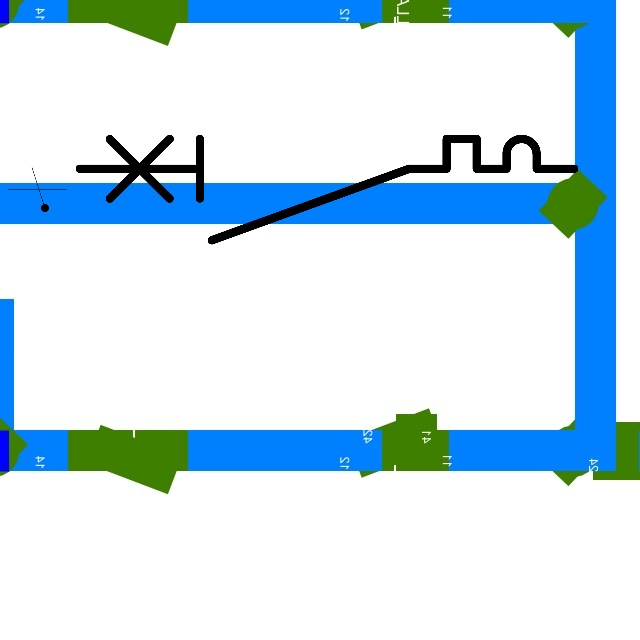interruptor_termomagnetico: (66, 126, 586, 253)
